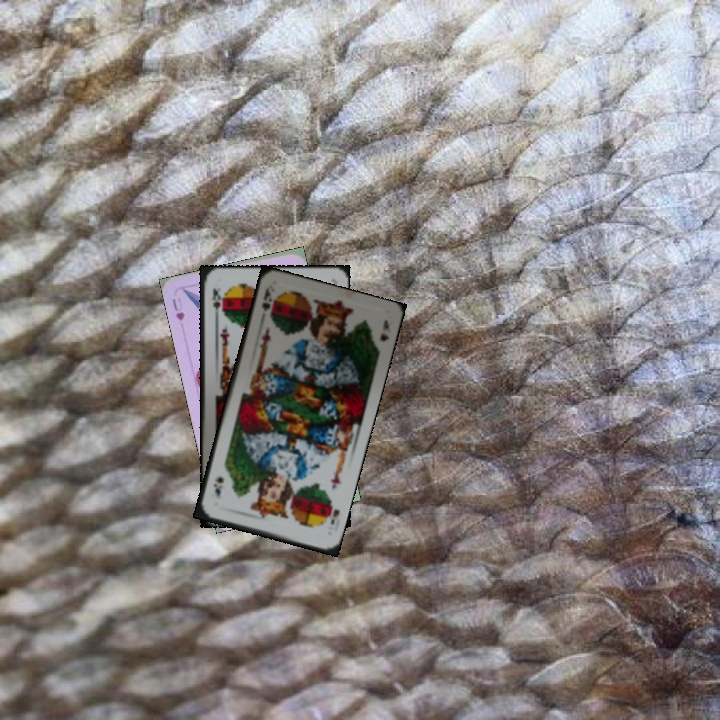HU: (168, 294, 187, 324)
SK: (257, 282, 277, 320), (321, 496, 342, 527), (208, 284, 223, 322)
